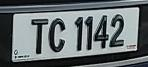1: (73, 13, 86, 57), (83, 14, 94, 53)
2: (110, 12, 125, 51)
4: (94, 13, 110, 53)
C: (47, 15, 68, 58)
T: (28, 15, 51, 58)
